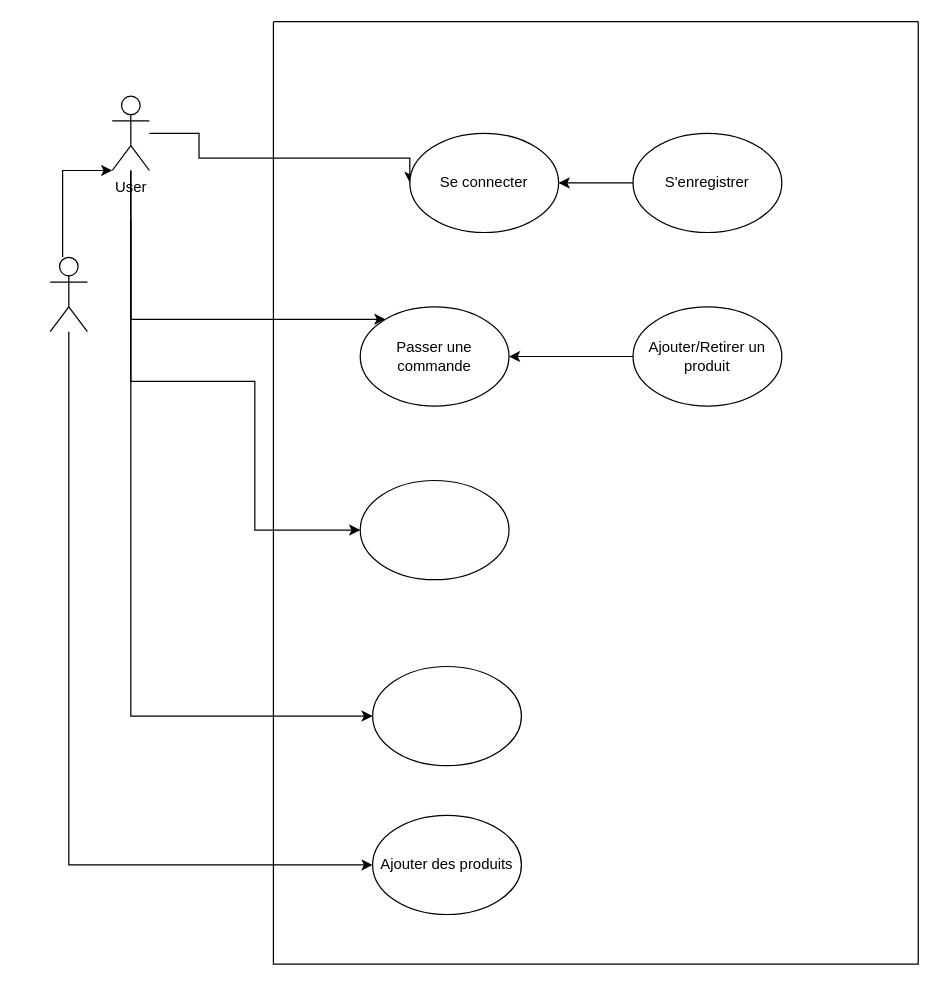
This 940x986 diagram has some shape labels left out. The centre of each missing label's shape, as x and y in pixels:
Administrateur: point (68, 294)
Modifier ses informations: point (446, 715)
Voir ses commandes passées et en cours: point (434, 529)
